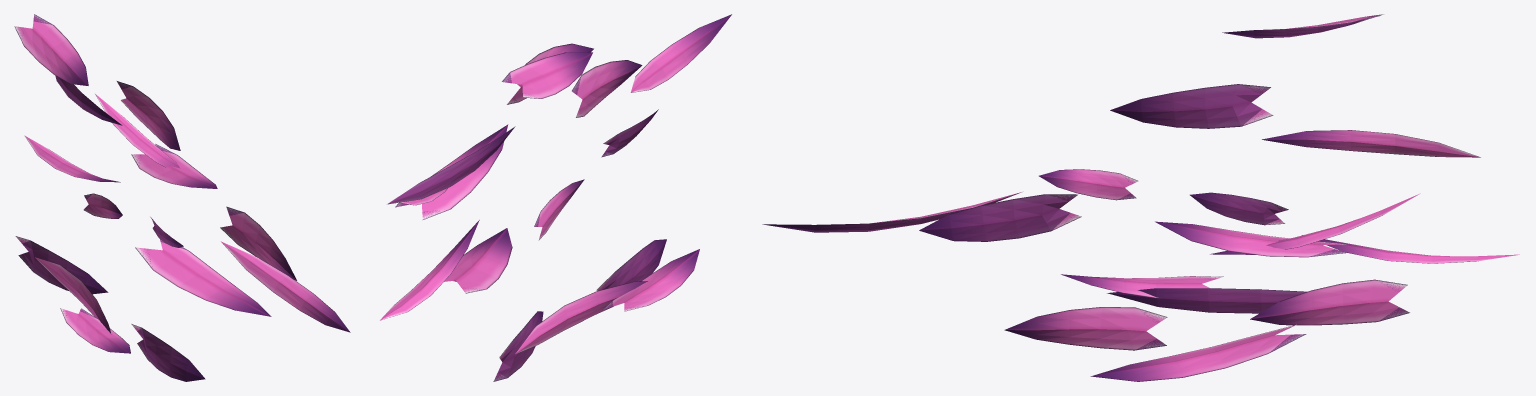
Rendered from senbon_cluster_b.fbx.
3 views of the same model, side by side, from view 1: azimuth 30°, elevation 25°; view 2: azimuth 150°, elevation 25°; view 3: azimuth 270°, elevation 25° (orthographic). The views are drawn at different scales.
Parts seen in each view (by area): view 1: senbon_cluster_b; view 2: senbon_cluster_b; view 3: senbon_cluster_b.
Part boxes in pixels (x1,y1,x2,y2): senbon_cluster_b: [14, 14, 350, 381]; senbon_cluster_b: [380, 14, 731, 381]; senbon_cluster_b: [762, 14, 1519, 381].
Size of the model in its own units: 0.9439 by 1.44 by 3.02.
Materials: 1 (1 with a texture image).
